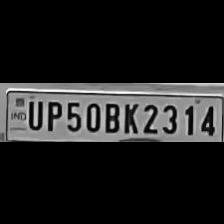0: (83, 100, 101, 132)
1: (180, 100, 196, 134)
2: (138, 100, 158, 134)
3: (159, 100, 177, 134)
4: (197, 101, 217, 135)
5: (62, 97, 82, 131)
B: (102, 99, 120, 134)
K: (121, 99, 139, 133)
P: (43, 97, 61, 131)
U: (25, 96, 42, 130)
